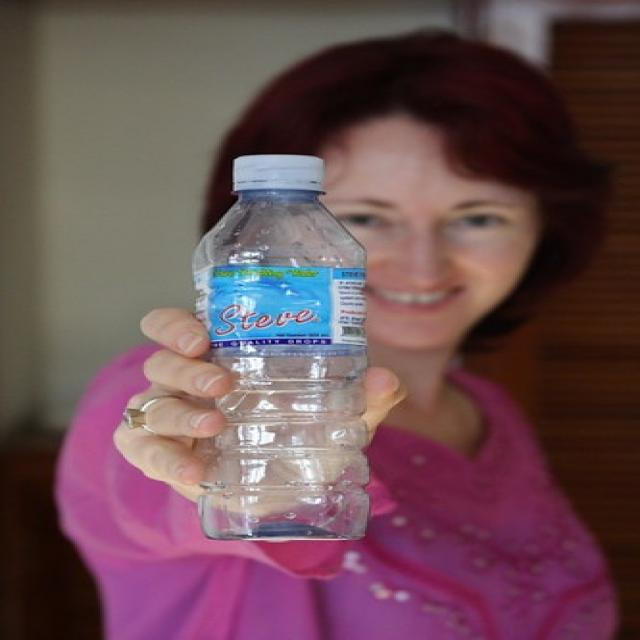plastic_bottle: (193, 155, 369, 542)
